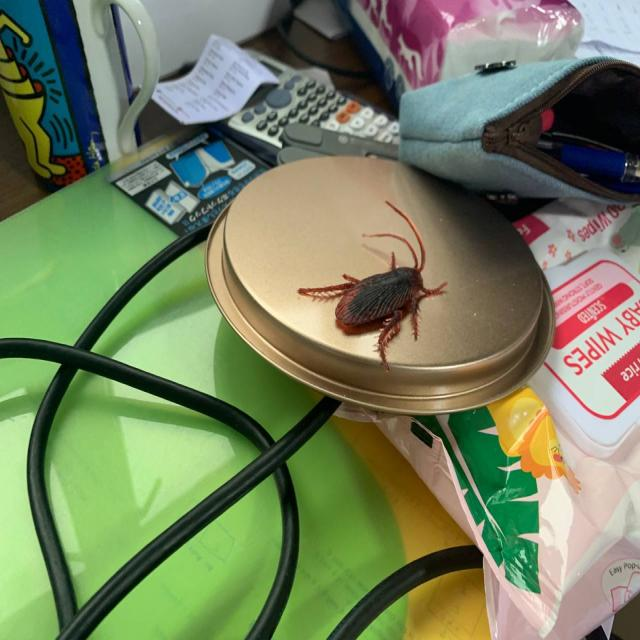Cockroach: (307, 198, 455, 364)
